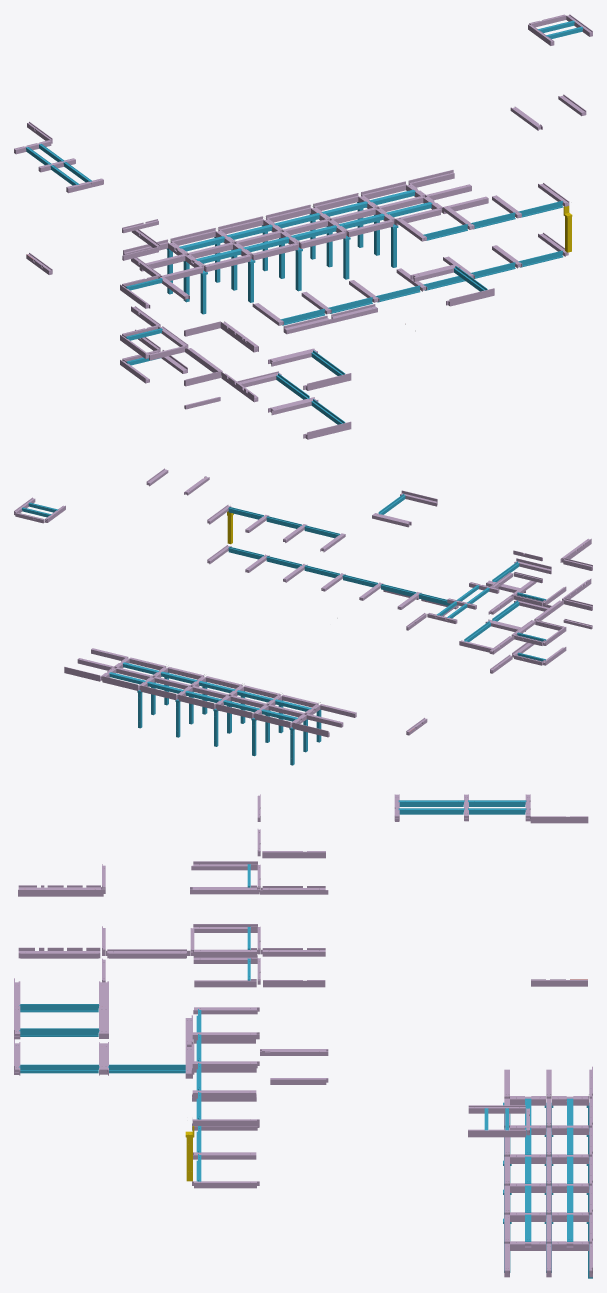
3 renders of one model, top to bottom at view 1: azimuth 30°, elevation 25°; view 2: azimuth 150°, elevation 25°; view 3: azimuth 270°, elevation 25°, orthographic. The views are drawn at different scales.
Parts seen in each view (by area): view 1: no part large enough to name; view 2: no part large enough to name; view 3: 0Feqnn4ovALxvkJxAN8tow, 0OdAPW5SrCkgQuflPnws3z, 21af$HstzDdQENJHKXYfZn.
Boxes of the visible parts, box(x1,y1,x2,y2) form: 0Feqnn4ovALxvkJxAN8tow: box(18, 887, 100, 896); 0OdAPW5SrCkgQuflPnws3z: box(18, 951, 100, 958); 21af$HstzDdQENJHKXYfZn: box(107, 951, 186, 958).
Bounding box in the file's own units: 129 × 45.7 × 92.8.
